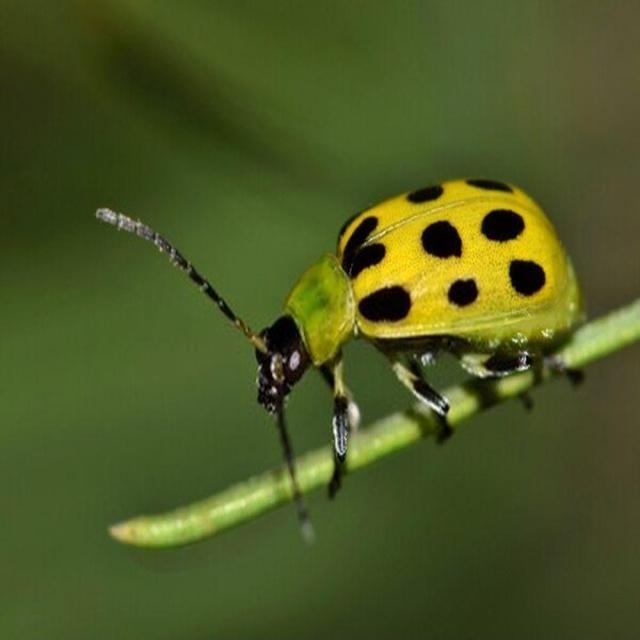gusano_verde: (96, 178, 588, 542)
